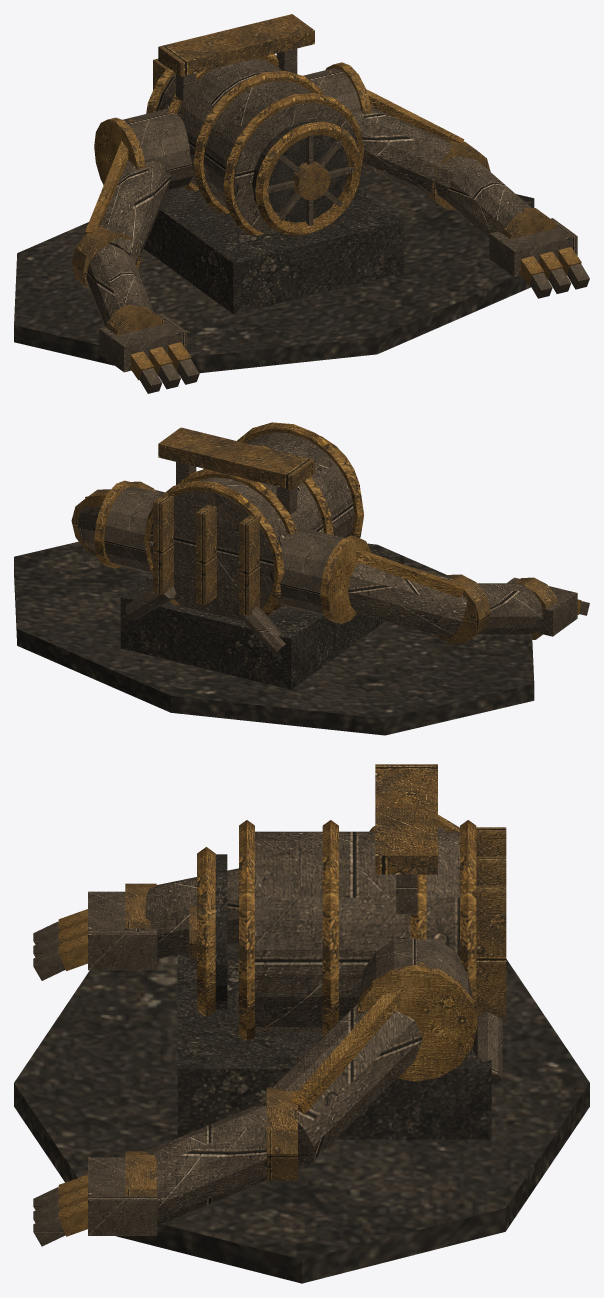
File: cooled-titan-shelf.glb
The picture shows the model from 3 angles, top to bottom: view 1: azimuth 30°, elevation 25°; view 2: azimuth 150°, elevation 25°; view 3: azimuth 270°, elevation 25°; orthographic projection. The views are drawn at different scales.
Parts seen in each view (by area): view 1: cooled-titan-shelf; view 2: cooled-titan-shelf; view 3: cooled-titan-shelf.
Boxes of the visible parts, bbox=[...] form: cooled-titan-shelf: bbox=[14, 14, 589, 393]; cooled-titan-shelf: bbox=[14, 422, 589, 735]; cooled-titan-shelf: bbox=[14, 764, 589, 1283].
Size of the model in its own units: 6.4 by 2.5 by 4.4.
Materials: 1 (1 with a texture image).
